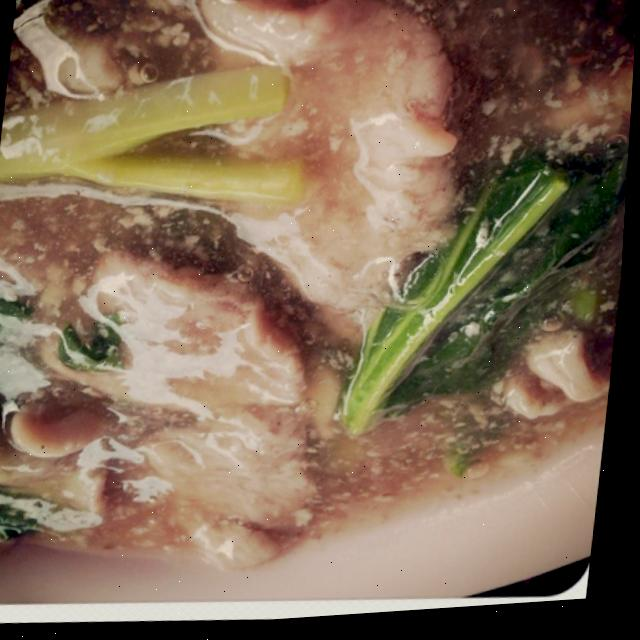面条主食: (0, 0, 633, 600)
